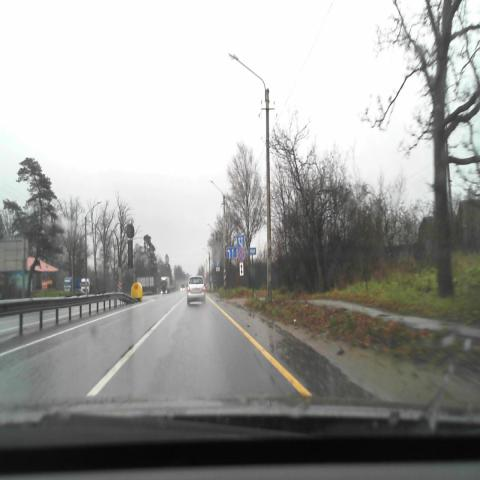5_15_1: (226, 247, 240, 258)
